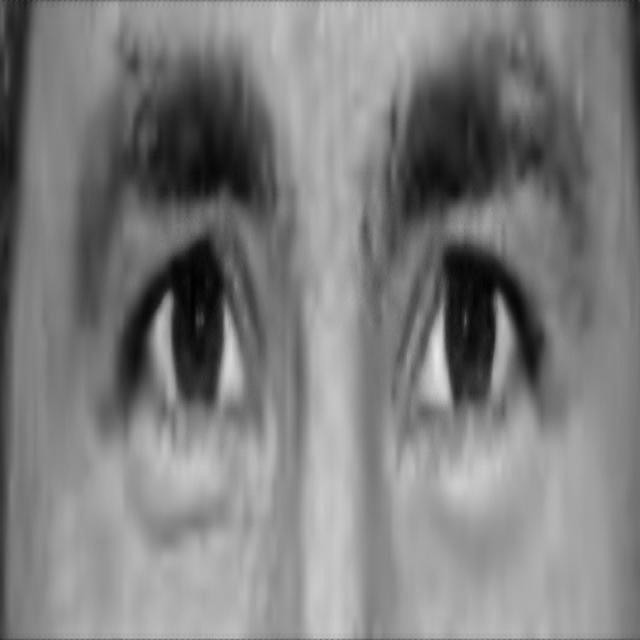real: (78, 22, 610, 586)
